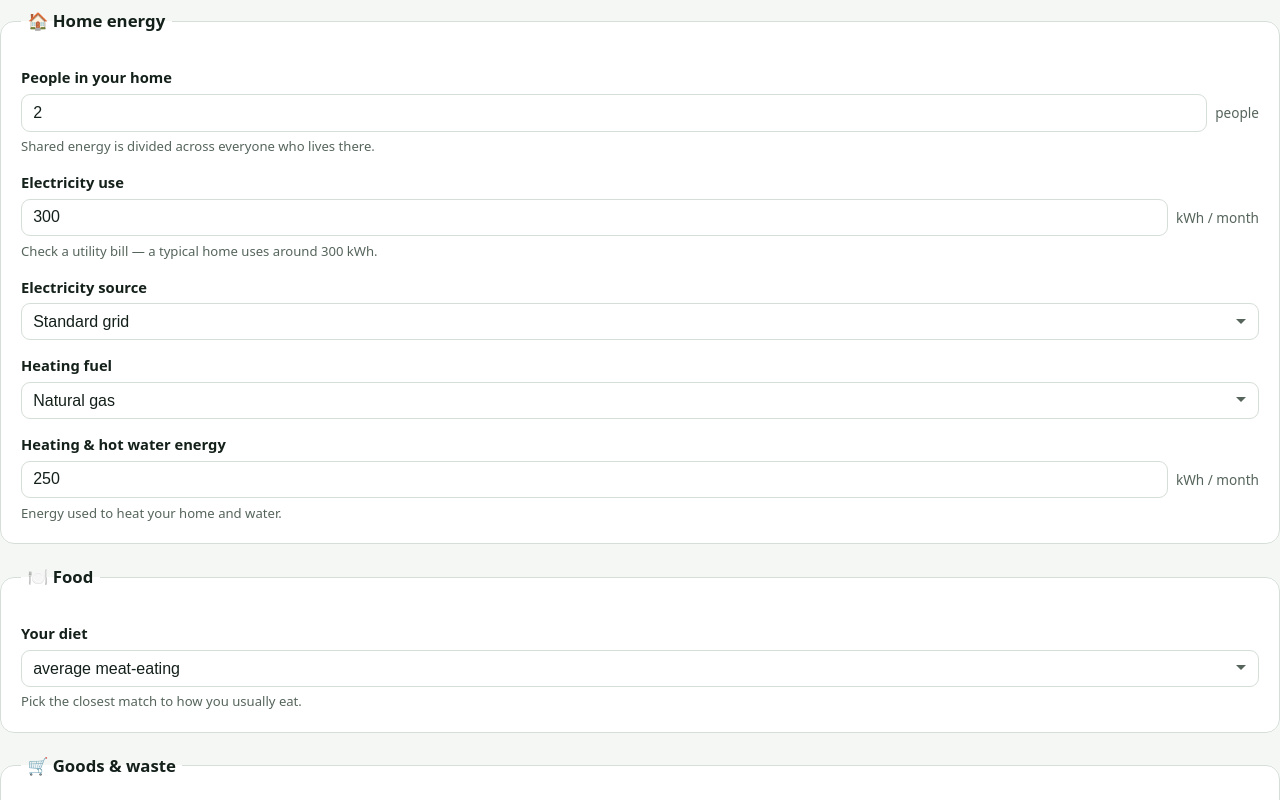
Test: CalculatorForm › disables the heating energy field when there is no heating fuel
(page scrolled)
Select "No heating" in the dropdown labelled "Heating fuel": (640, 400) [21,382,1259,419]
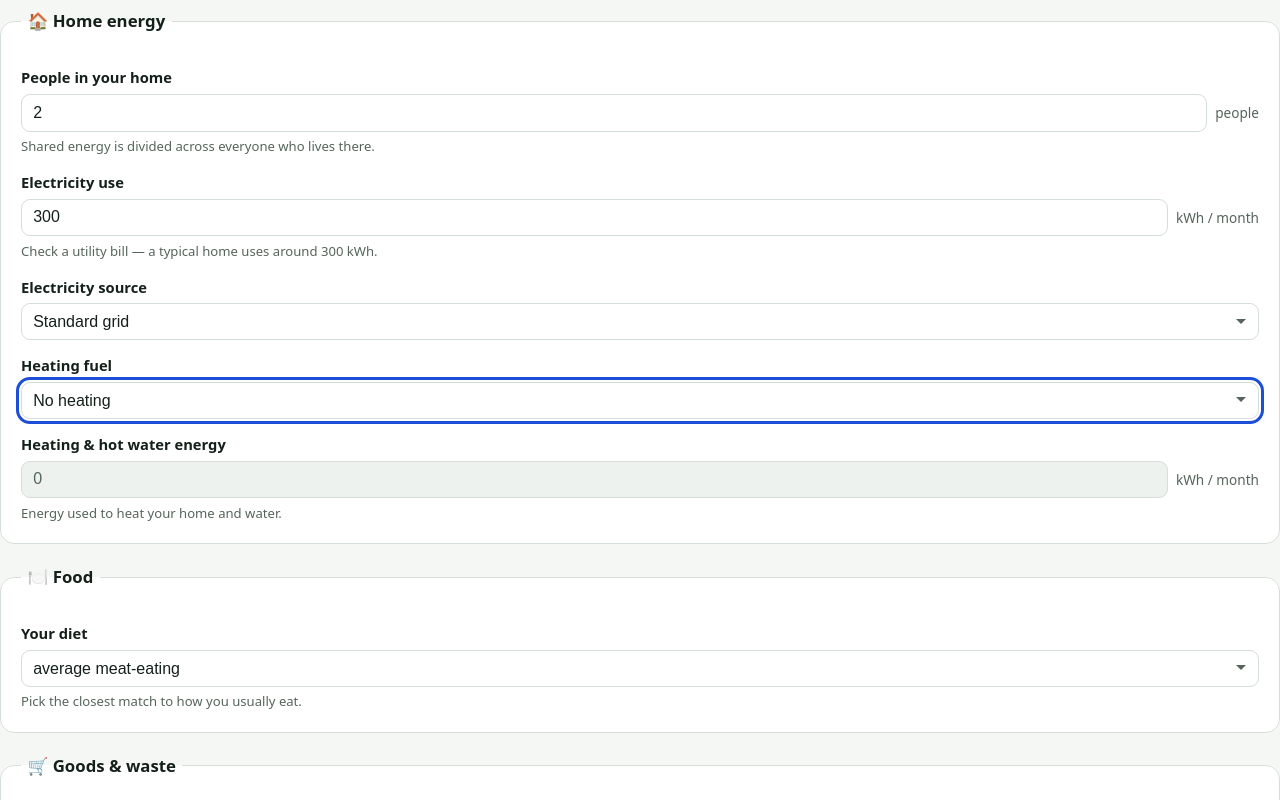
Expected: the number field labelled "Heating & hot water energy" is disabled, [21,461,1168,498]
